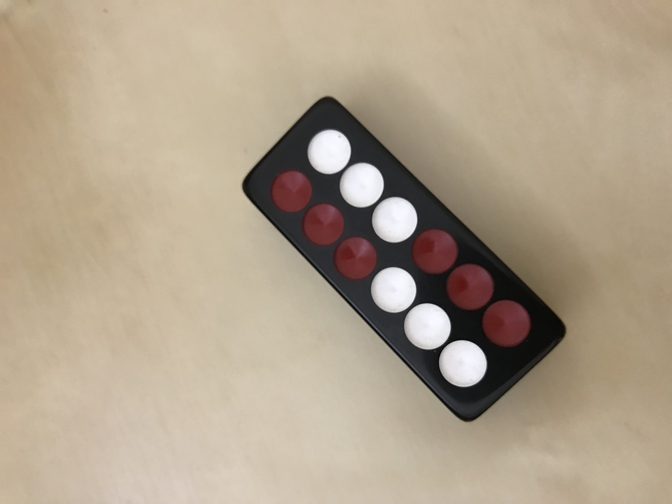heaven: (241, 94, 568, 423)
